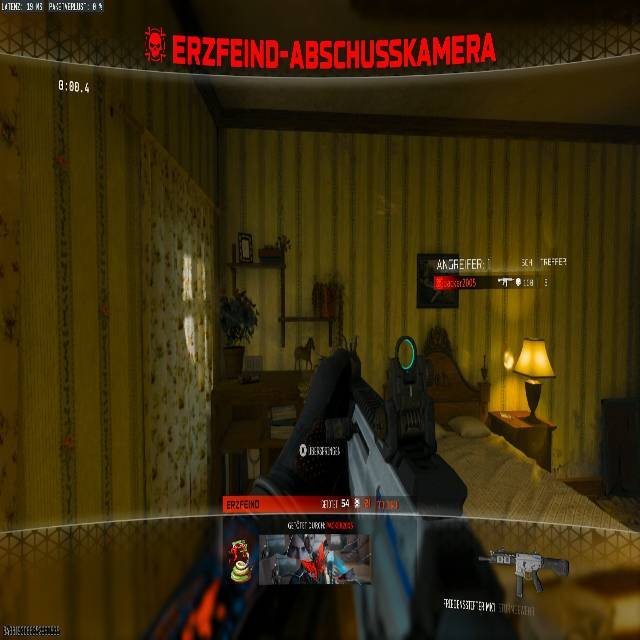player: (296, 335, 315, 372)
